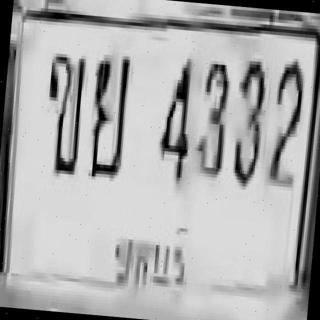A02: (39, 49, 86, 174)
A34: (85, 50, 131, 178)
N02: (266, 57, 305, 184)
N03: (230, 57, 268, 184), (192, 56, 231, 178)
N04: (155, 54, 196, 181)
P13: (105, 220, 198, 290)
